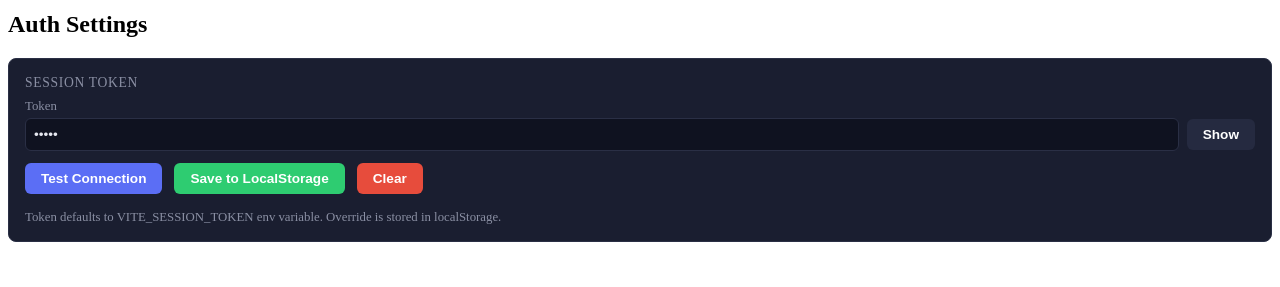
AuthSettings › test connection shows error on failure
Step 1. Click the button with test id "test-connection" → coordinates (94, 178), box [25,163,162,194]
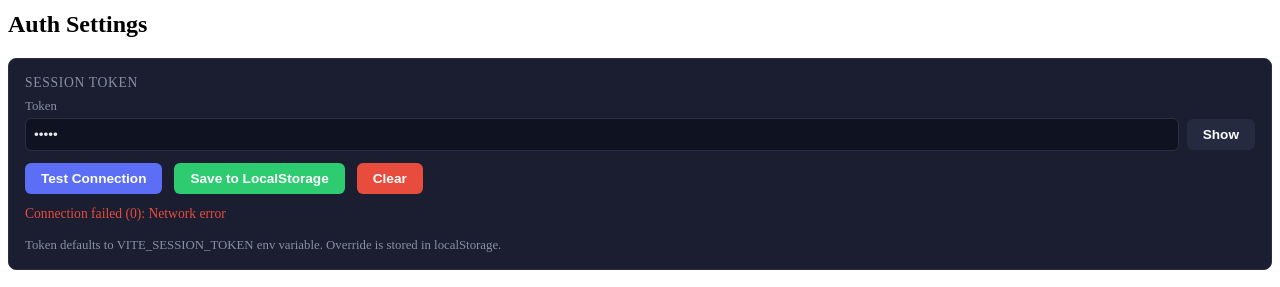
Expected: the text with test id "auth-message" shows "Connection failed", [25,206,226,221]
